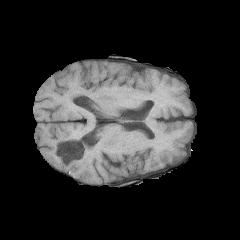glioma: (62, 144, 98, 178)
